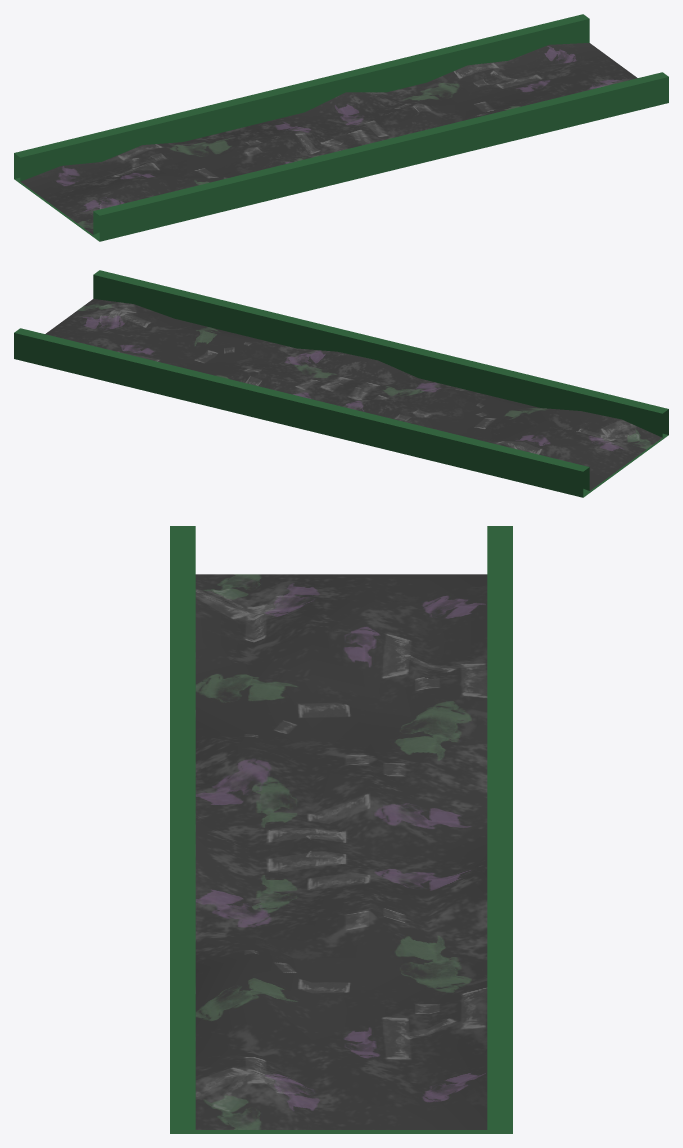
File: conveerstraighttrash.fbx
The picture shows the model from 3 angles, top to bottom: view 1: azimuth 30°, elevation 25°; view 2: azimuth 150°, elevation 25°; view 3: azimuth 270°, elevation 25°; orthographic projection. The views are drawn at different scales.
Visible parts, largest first — view 1: conveerstraightsm; view 2: conveerstraightsm; view 3: conveerstraightsm.
Boxes of the visible parts, x1,y1,x2,y2 form: conveerstraightsm: (14, 14, 668, 241); conveerstraightsm: (14, 270, 668, 497); conveerstraightsm: (170, 526, 512, 1133).
Bounding box in the file's own units: 110 × 4.83 × 28.76.
2 materials, 2 textured.
